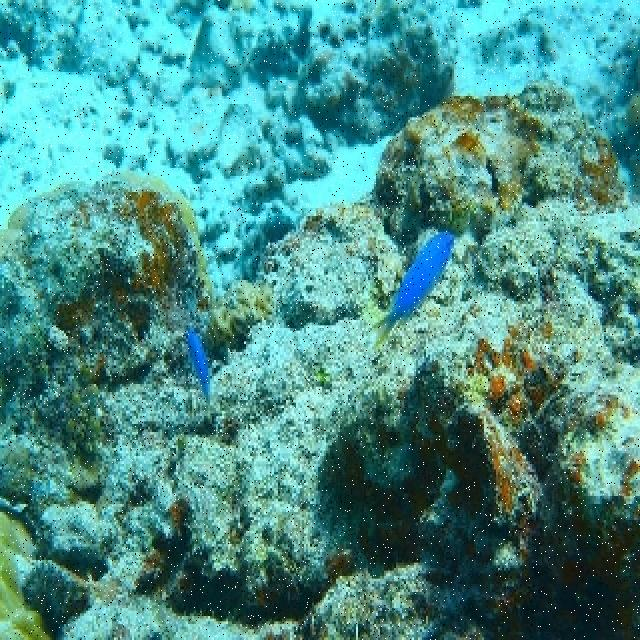fish: (365, 232, 456, 352), (188, 332, 211, 403)
reefs: (0, 79, 638, 637)
